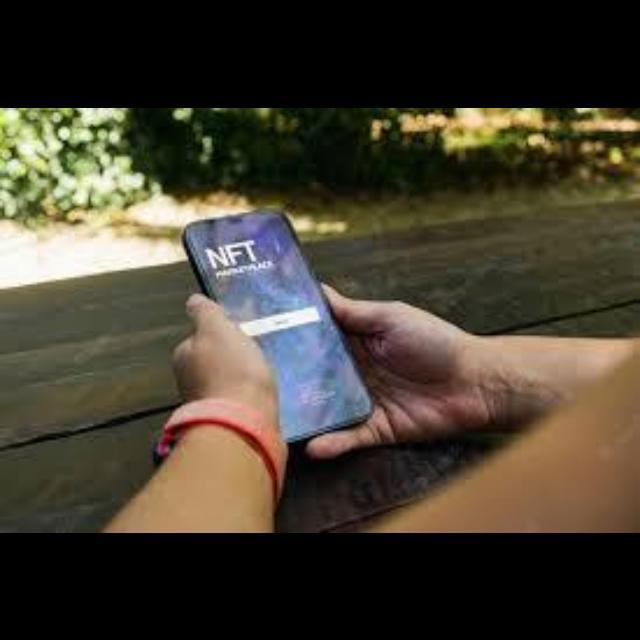phone: (176, 191, 379, 469)
